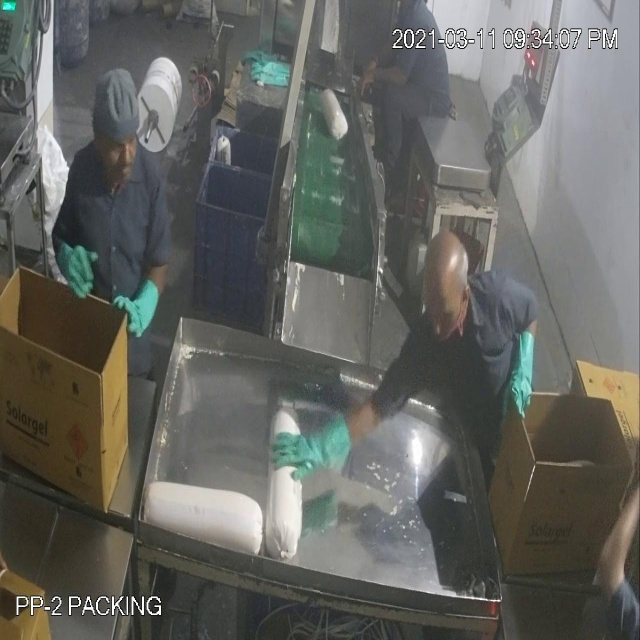Guantes: (486, 333, 541, 417)
Sin_guantes: (576, 448, 640, 604), (355, 52, 414, 98)
